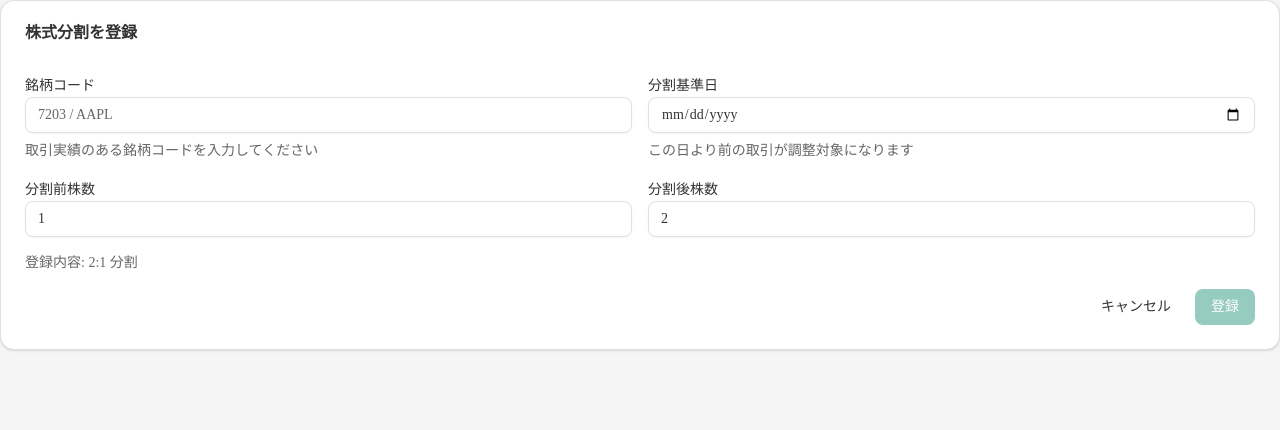
Scenario: StockSplitForm › APIがエラーを返した場合はエラーメッセージを表示しonCreatedを呼ばない
The image size is (1280, 430).
Type "7203" into the field labelled "銘柄コード".
click(328, 115); type("7203")  # box left=25, top=97, right=632, bottom=133
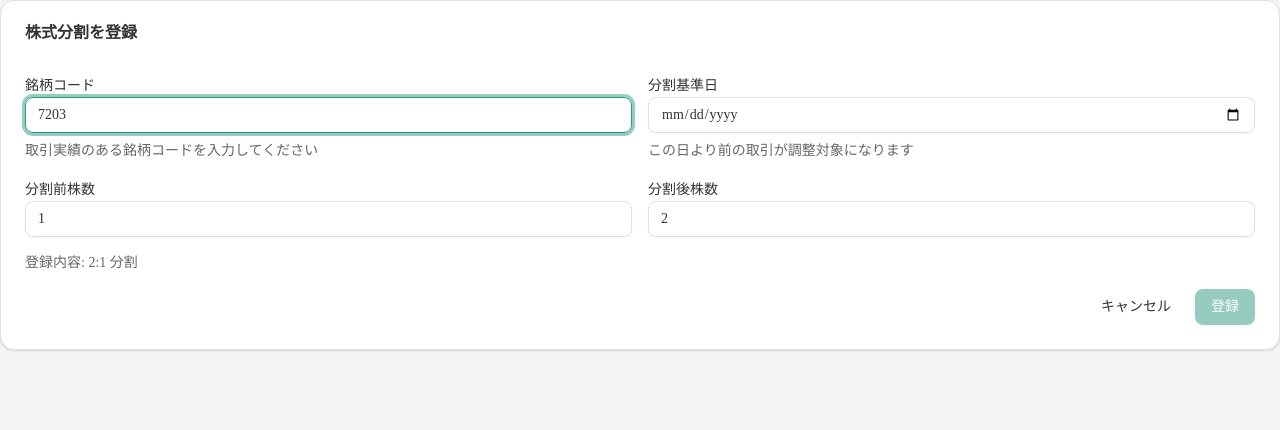
Type "2024-06-01" into the date field labelled "分割基準日".
click(952, 115); type("2024-06-01")  # box left=648, top=97, right=1255, bottom=133
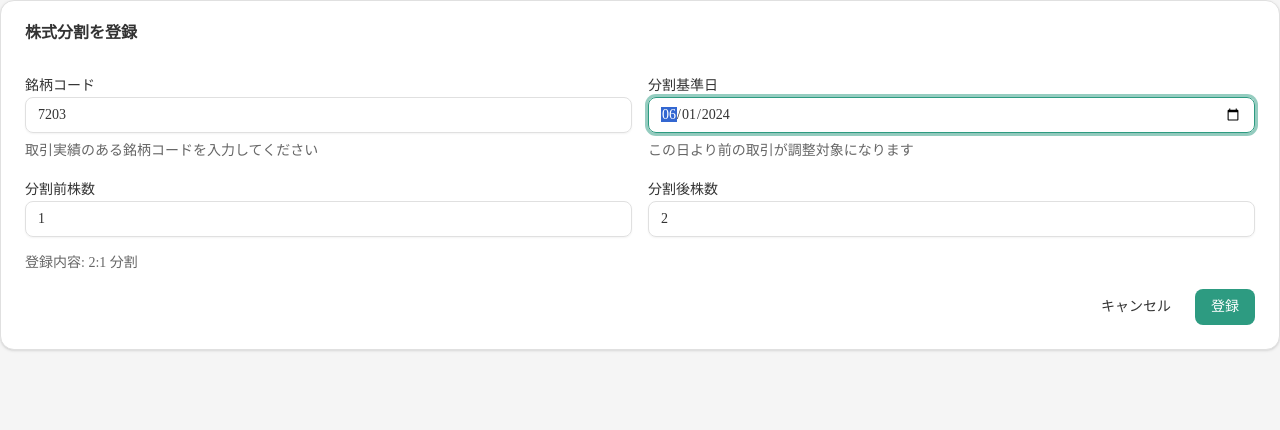
Click the button "登録".
click(1225, 307)  # box left=1195, top=289, right=1255, bottom=325
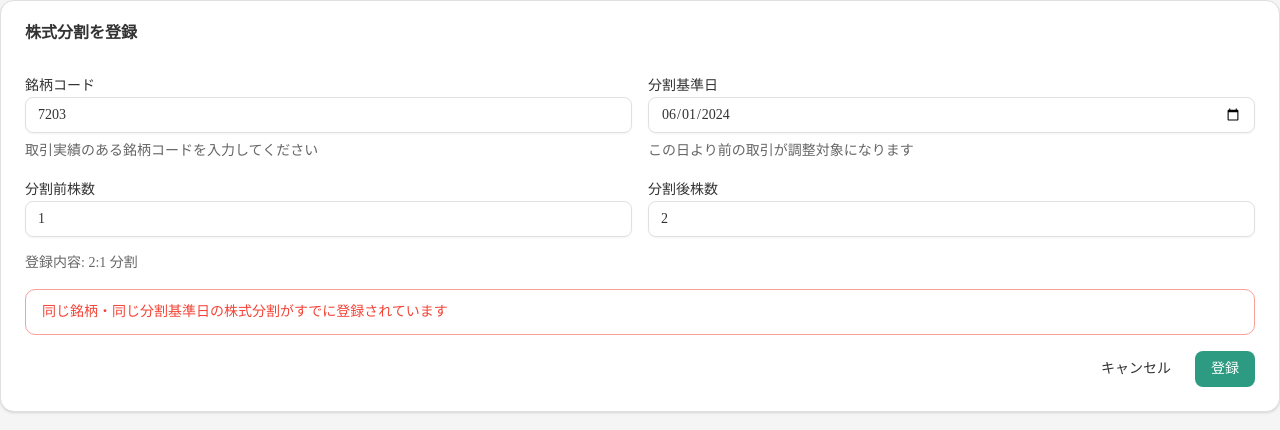
Expected: the text "同じ銘柄・同じ分割基準日の株式分割がすでに登録されています" is shown, left=42, top=304, right=448, bottom=319
